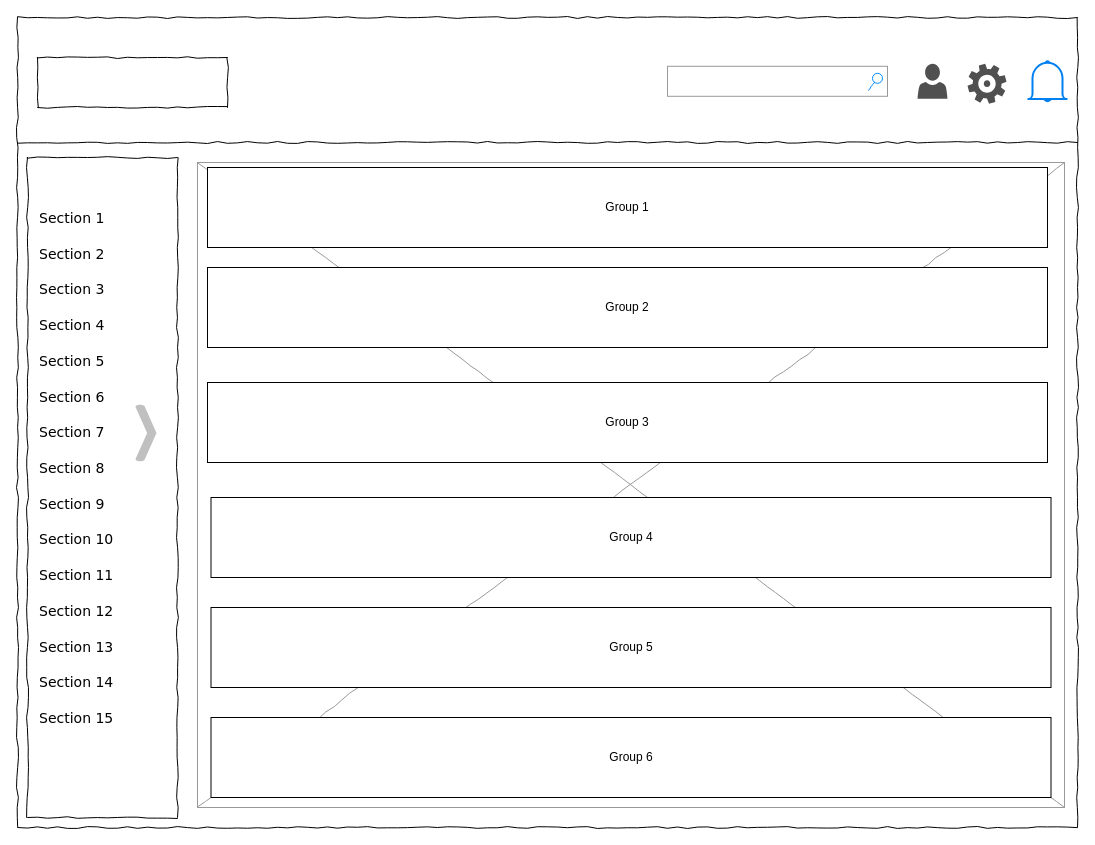
The diagram is 1095 pixels wide and 845 high, and some of its shapes have lost their labels. Here are the shapes that lost their labels. From the top down, the centre of each, then its label:
At pixel 132 82: "LOGO".
At pixel 777 80: "Search".
